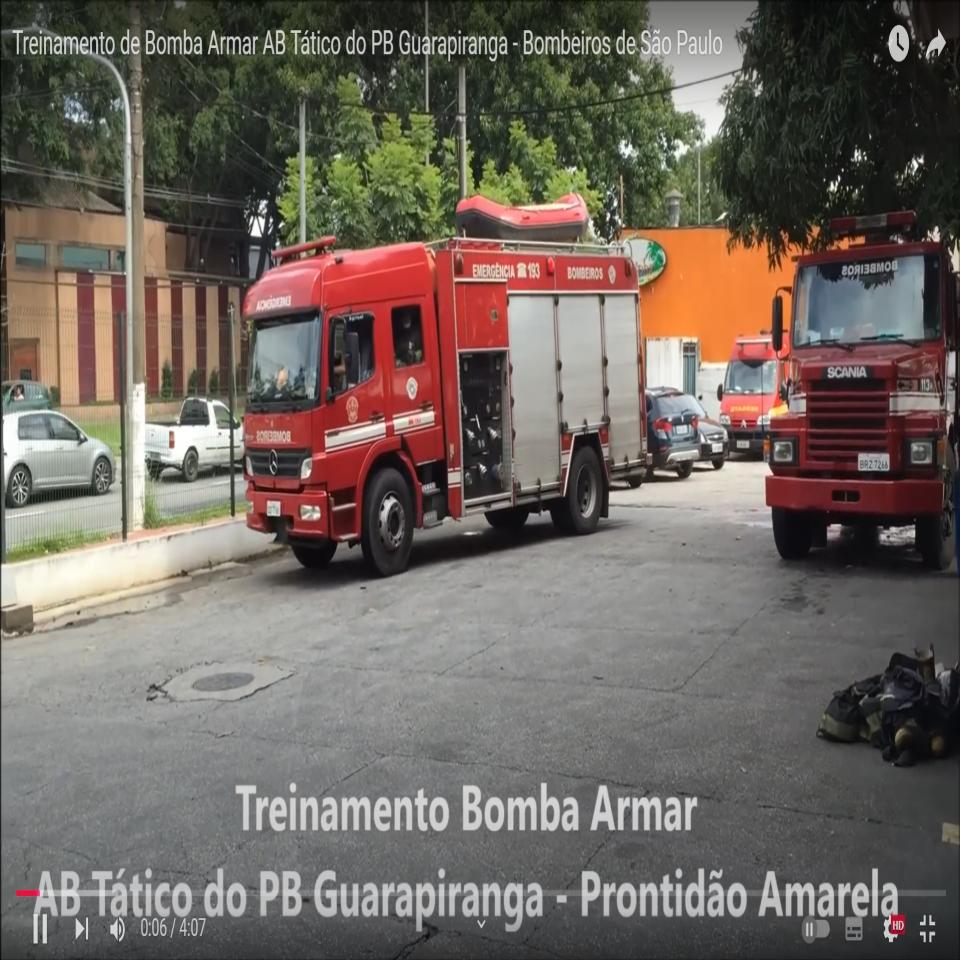viatura: (241, 195, 657, 579), (764, 206, 960, 572)
